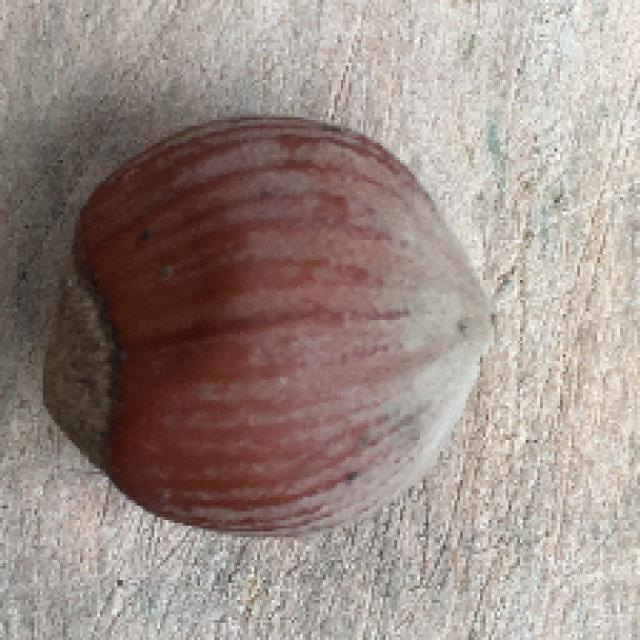QualityHazelnut: (41, 116, 496, 540)
